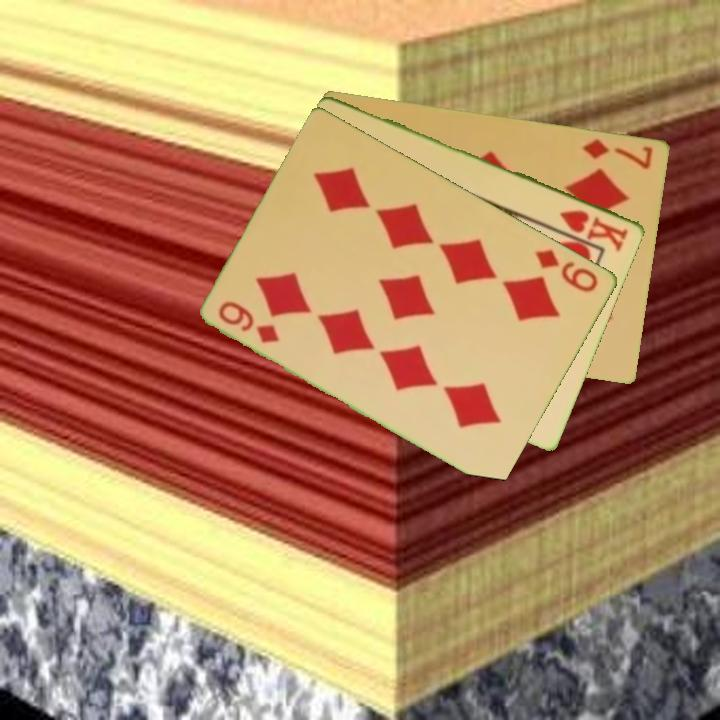7d: (580, 135, 657, 172)
9d: (532, 245, 602, 295), (215, 297, 283, 346)
Kh: (556, 205, 632, 253)
